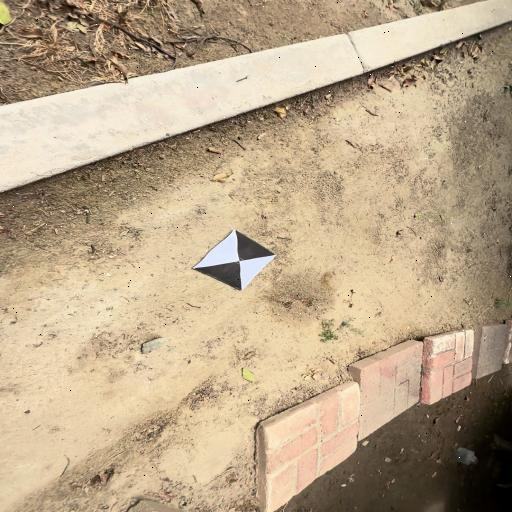target: (194, 230, 277, 290)
